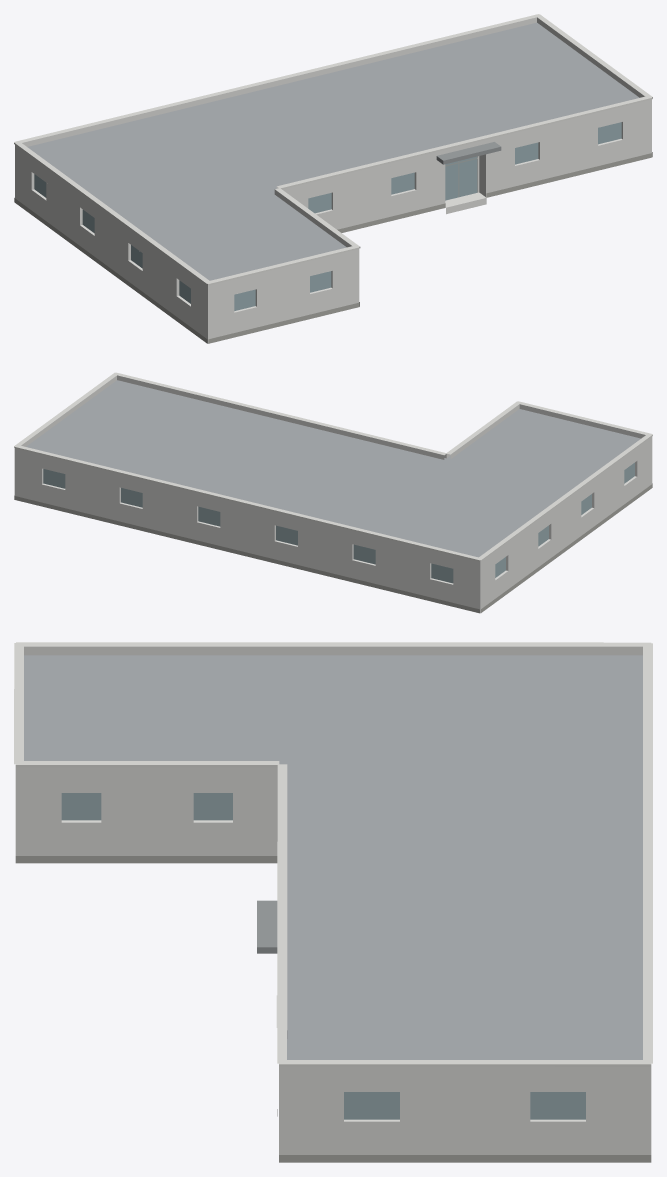
3 renders of one model, top to bottom at view 1: azimuth 30°, elevation 25°; view 2: azimuth 150°, elevation 25°; view 3: azimuth 270°, elevation 25°, orthographic. The views are drawn at different scales.
Visible parts, largest first — view 1: b115951755__roof, b115951755__wall, b115951755__trim, b115951755__parapet, b115951755__glass, b115951755__base, b115951755__canopy, b115951755__entranceThreshold_0; view 2: b115951755__roof, b115951755__wall, b115951755__trim, b115951755__parapet, b115951755__base, b115951755__glass; view 3: b115951755__roof, b115951755__wall, b115951755__trim, b115951755__parapet, b115951755__glass, b115951755__base, b115951755__canopy.
Boxes of the visible parts, x1,y1,x2,y2 form: b115951755__roof: (27,22,639,343); b115951755__wall: (15,102,651,343); b115951755__trim: (14,14,652,285); b115951755__parapet: (15,17,651,288); b115951755__glass: (34,122,621,310); b115951755__base: (14,152,652,343); b115951755__canopy: (436,142,501,164); b115951755__entranceThreshold_0: (445,192,486,214); b115951755__roof: (26,380,640,557); b115951755__wall: (14,439,652,613); b115951755__trim: (14,372,652,561); b115951755__parapet: (14,375,652,564); b115951755__base: (14,483,652,613); b115951755__glass: (43,462,634,583); b115951755__roof: (24,655,642,1059); b115951755__wall: (15,773,651,1154); b115951755__trim: (14,642,652,1066); b115951755__parapet: (15,646,651,1072); b115951755__glass: (61,793,585,1119); b115951755__base: (15,856,651,1162); b115951755__canopy: (257,900,277,953).
Bounding box in the file's own units: 36.29 × 4.35 × 23.23.
